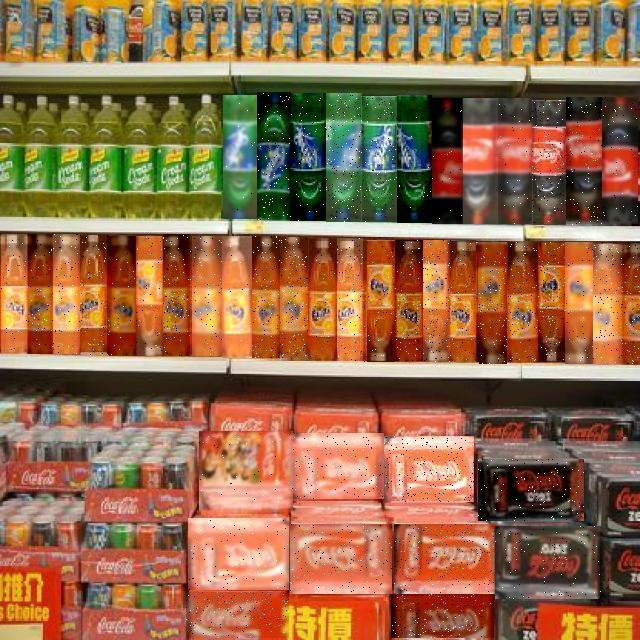Drinks: (496, 526, 602, 599), (199, 432, 293, 514), (188, 518, 289, 590), (394, 524, 497, 594), (290, 524, 392, 594), (479, 459, 585, 521), (293, 433, 384, 499), (384, 436, 474, 502), (186, 593, 289, 639), (326, 93, 362, 222), (291, 93, 327, 221), (566, 98, 602, 226), (602, 98, 638, 226), (361, 96, 397, 222), (464, 98, 500, 224), (391, 594, 494, 638), (397, 95, 432, 223), (257, 92, 291, 220), (499, 99, 533, 225), (532, 100, 566, 225), (223, 95, 257, 219), (432, 98, 465, 224), (222, 236, 252, 358), (192, 236, 222, 356), (508, 243, 538, 363), (338, 238, 366, 362), (164, 235, 192, 357), (252, 236, 280, 358), (281, 238, 309, 360), (309, 238, 337, 360), (367, 240, 395, 362), (395, 240, 423, 362), (424, 240, 452, 362), (452, 241, 480, 363), (479, 242, 507, 364), (565, 242, 593, 364), (54, 235, 82, 355), (82, 236, 110, 356), (109, 236, 137, 356), (136, 236, 164, 356), (539, 243, 567, 363), (594, 244, 622, 364), (28, 235, 54, 355), (1, 234, 27, 354), (620, 243, 640, 365)
